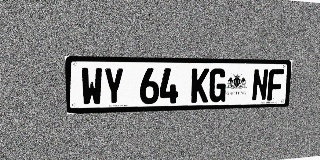4: (160, 68, 179, 104)
6: (140, 68, 159, 104)
F: (267, 69, 284, 101)
G: (209, 68, 227, 102)
K: (191, 68, 209, 103)
N: (251, 69, 269, 101)
W: (81, 67, 103, 106)
Y: (103, 68, 124, 105)
